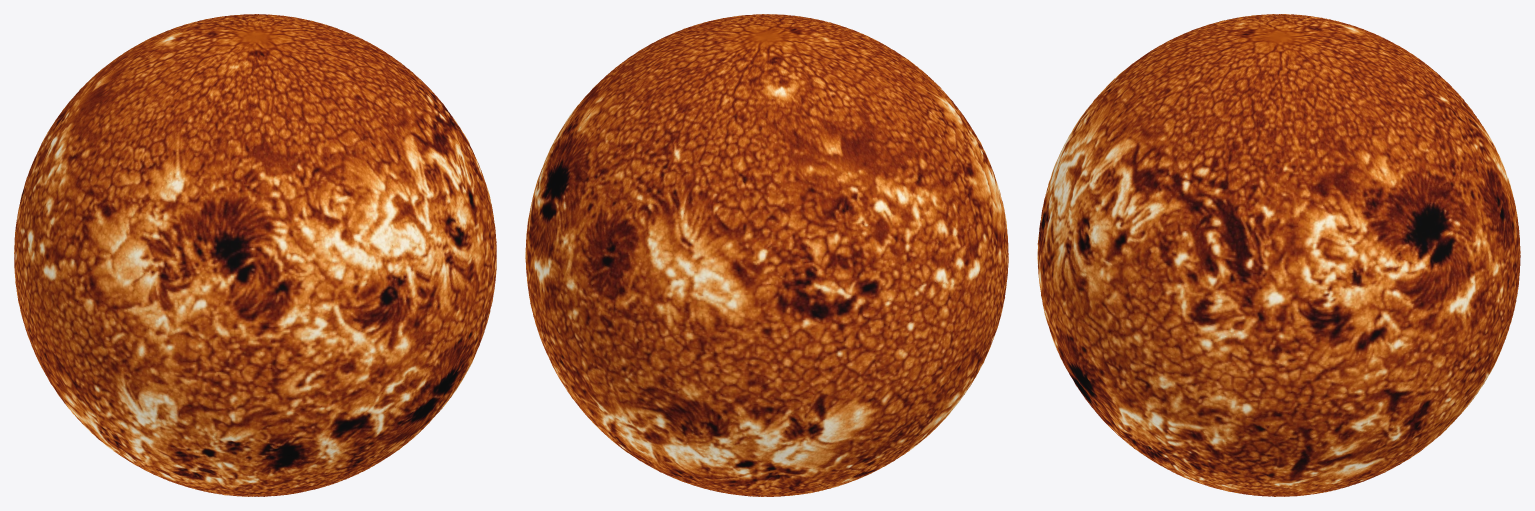
Rendered from sol_cientifico.glb.
The picture shows the model from 3 angles, left to right: view 1: azimuth 30°, elevation 25°; view 2: azimuth 150°, elevation 25°; view 3: azimuth 270°, elevation 25°; orthographic projection.
Parts seen in each view (by area): view 1: Sun; view 2: Sun; view 3: Sun.
Part boxes in pixels (box(x1,y1,x2,y2)): Sun: box(14, 14, 496, 496); Sun: box(525, 14, 1008, 496); Sun: box(1037, 14, 1520, 496).
Bounding box in the file's own units: 2 × 2 × 2.01.
1 material, 1 textured.
